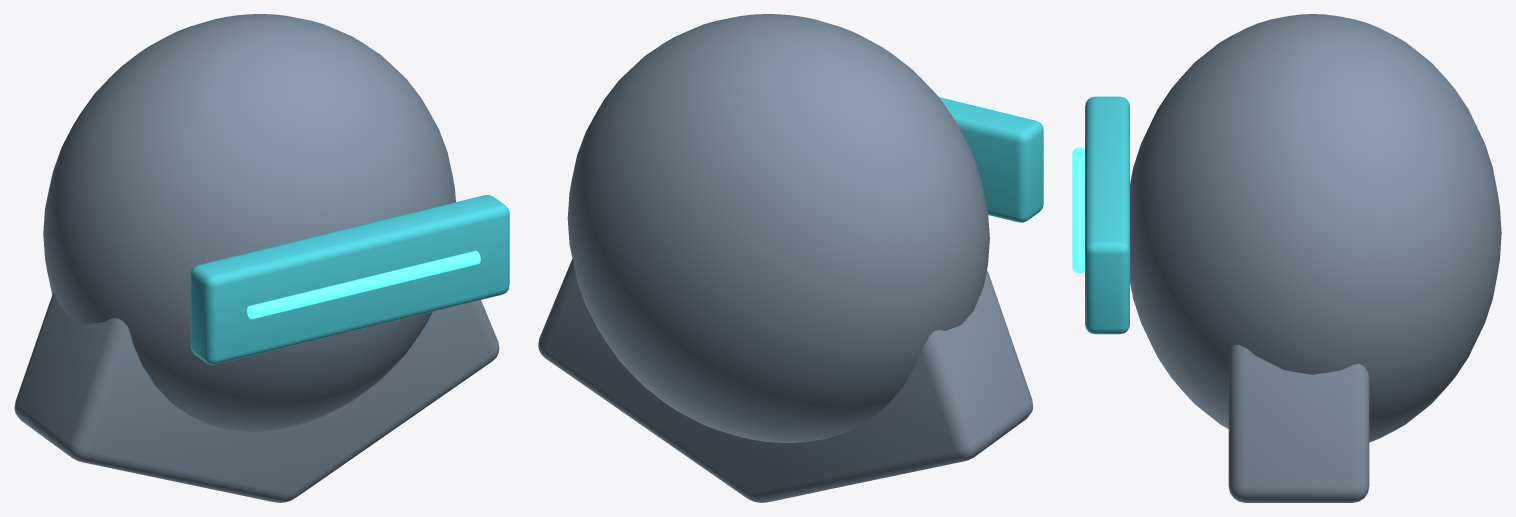
File: helm_v2.glb
The picture shows the model from 3 angles, left to right: view 1: azimuth 30°, elevation 25°; view 2: azimuth 150°, elevation 25°; view 3: azimuth 270°, elevation 25°; orthographic projection. The views are drawn at different scales.
Parts seen in each view (by area): view 1: SALLET_SHELL_PRIMARY, SALLET_TAIL_PRIMARY, SALLET_VISOR_ACCENT, SALLET_SLIT_EMISSIVE; view 2: SALLET_SHELL_PRIMARY, SALLET_TAIL_PRIMARY, SALLET_VISOR_ACCENT; view 3: SALLET_SHELL_PRIMARY, SALLET_TAIL_PRIMARY, SALLET_VISOR_ACCENT, SALLET_SLIT_EMISSIVE.
Boxes of the visible parts, x1=… form: SALLET_SHELL_PRIMARY: x1=43, y1=14, x2=455, y2=431; SALLET_TAIL_PRIMARY: x1=14, y1=292, x2=499, y2=502; SALLET_VISOR_ACCENT: x1=190, y1=195, x2=509, y2=364; SALLET_SLIT_EMISSIVE: x1=247, y1=250, x2=480, y2=319; SALLET_SHELL_PRIMARY: x1=567, y1=14, x2=989, y2=442; SALLET_TAIL_PRIMARY: x1=538, y1=259, x2=1033, y2=502; SALLET_VISOR_ACCENT: x1=939, y1=97, x2=1043, y2=222; SALLET_SHELL_PRIMARY: x1=1130, y1=14, x2=1501, y2=442; SALLET_TAIL_PRIMARY: x1=1228, y1=345, x2=1369, y2=502; SALLET_VISOR_ACCENT: x1=1085, y1=96, x2=1129, y2=334; SALLET_SLIT_EMISSIVE: x1=1072, y1=147, x2=1084, y2=273.
Size of the model in its own units: 1.8 by 1.8 by 1.52.
